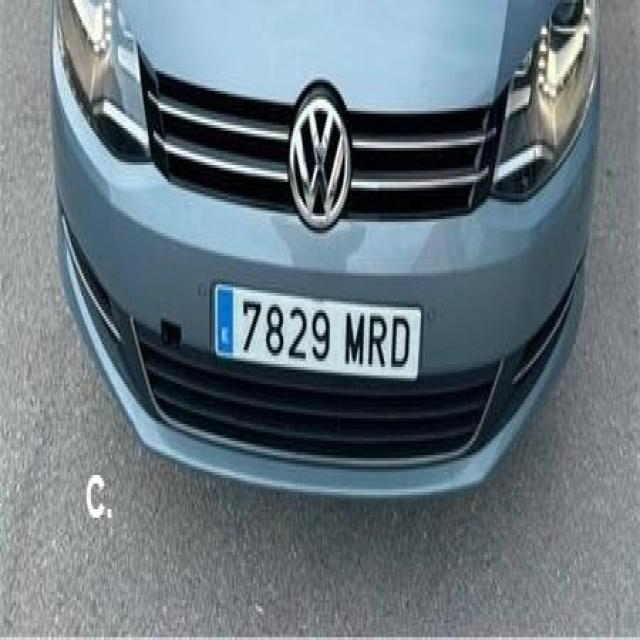license_plate-34Td: (213, 284, 420, 378)
